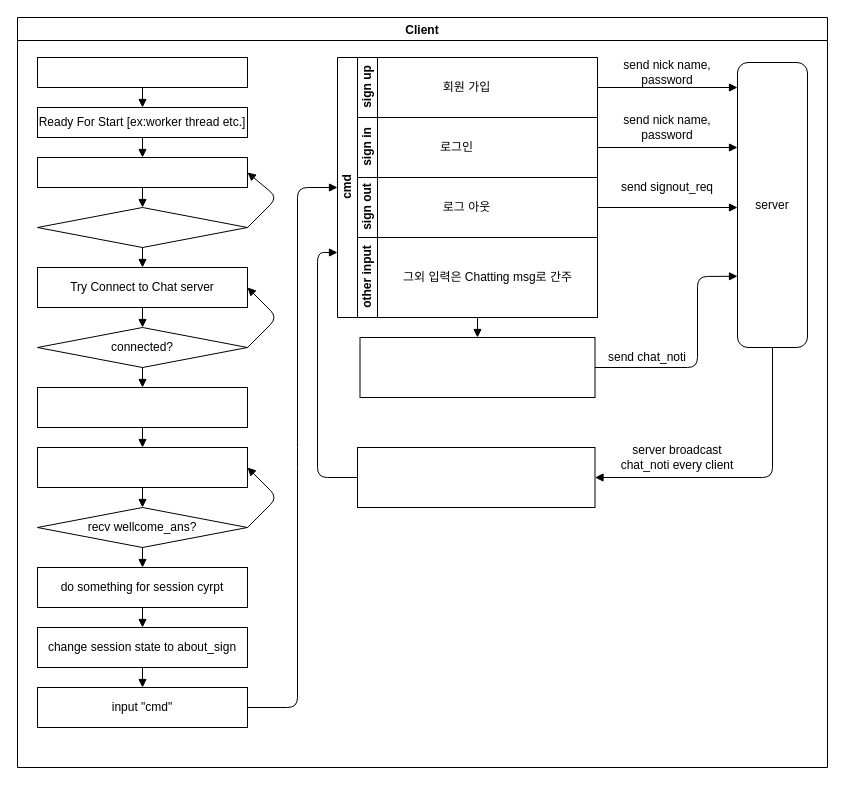
The diagram is 845 pixels wide and 785 high, and some of its shapes have lost their labels. Here are the shapes that lost their labels. From the top down, the centre of each, then its label:
the point at 142,72: Start Program And Read Config Files
the point at 142,172: Try get lobbyserver info from redis
the point at 142,227: Get info about chat server?
the point at 477,367: send chat_noti to server
the point at 142,407: Create Session Socket using tcp
the point at 142,467: Try send hello_req
the point at 475,477: recv chat noti
